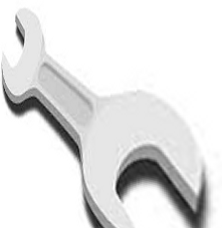Wrench: (7, 5, 206, 228)
